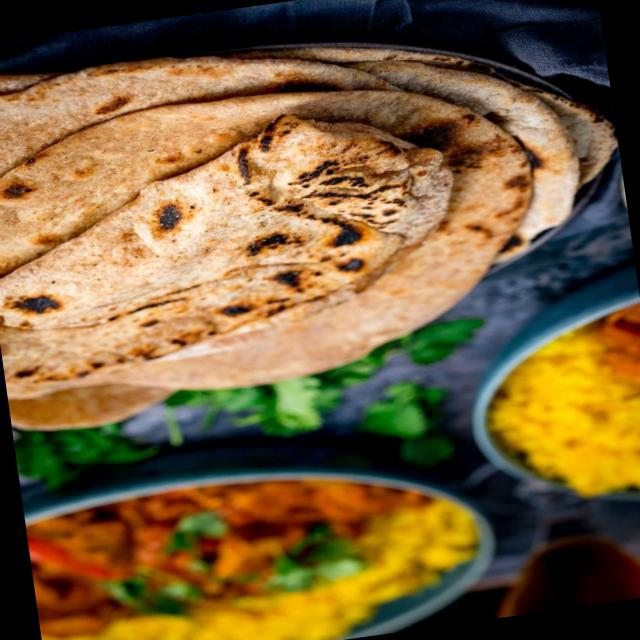roti: (0, 46, 616, 430)
